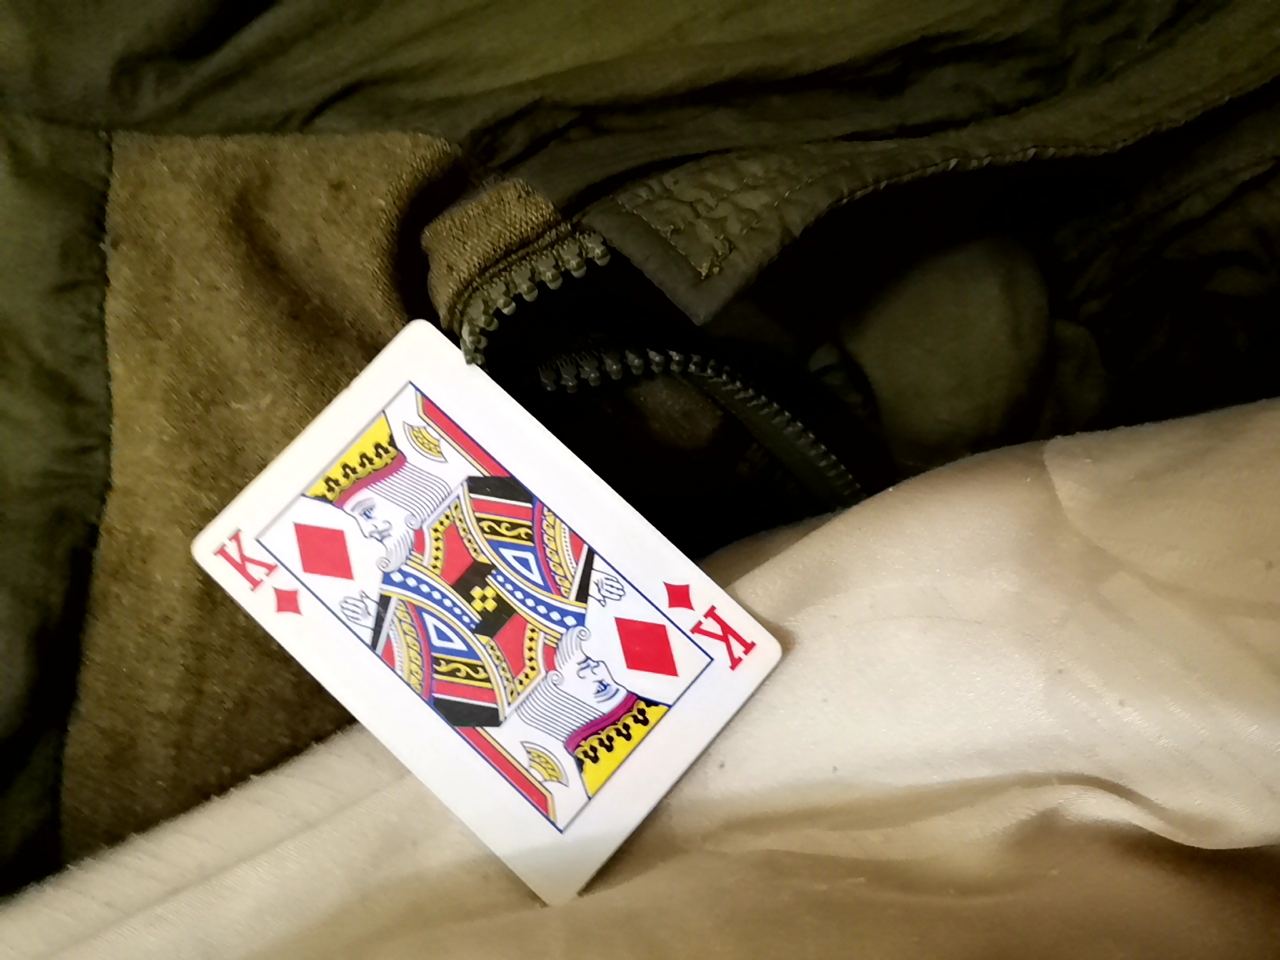fk k: (142, 290, 768, 867)
